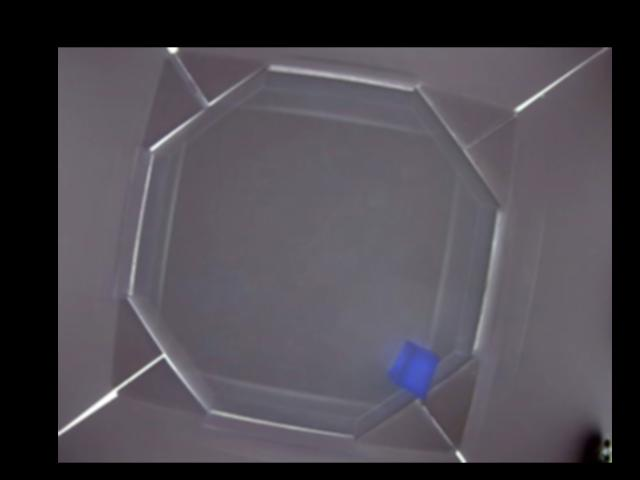Potato: (388, 338, 436, 396)
